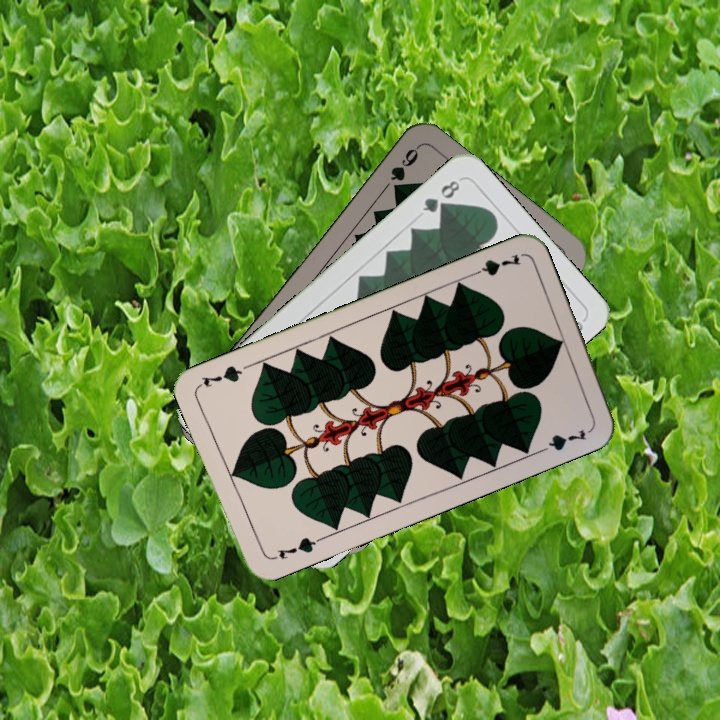G7: (465, 250, 524, 280), (273, 533, 324, 562)
G8: (418, 175, 464, 216)
G9: (385, 142, 421, 184)
